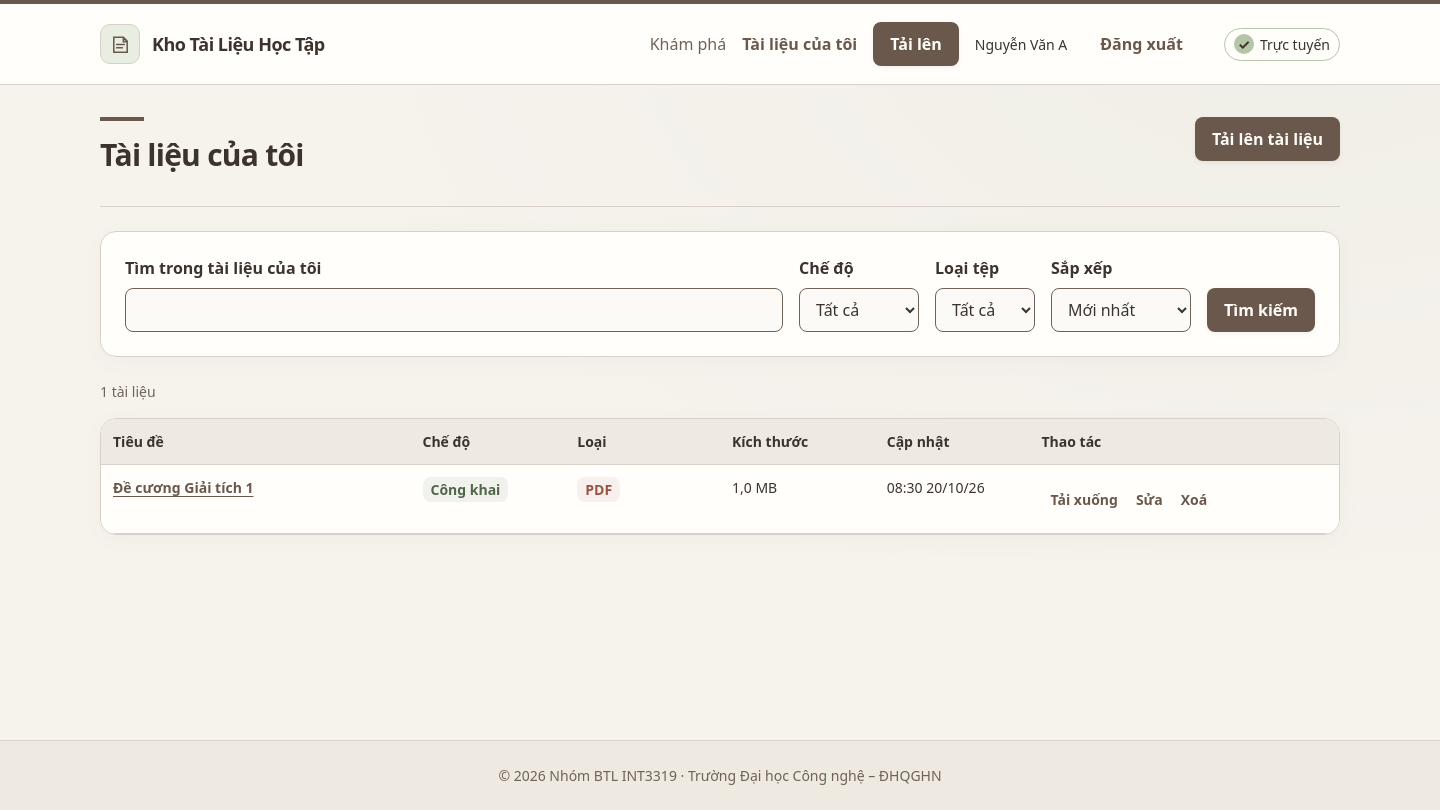
authentication, navigation and public discovery › blocks an external redirect, sends logged-in guests-only routes to their collection, and supports logout
Expected: the heading "Tài liệu của tôi" is shown, [100,117,304,174]
Click the button "Đăng xuất".
click(1142, 44)  # box [1083,22,1200,66]
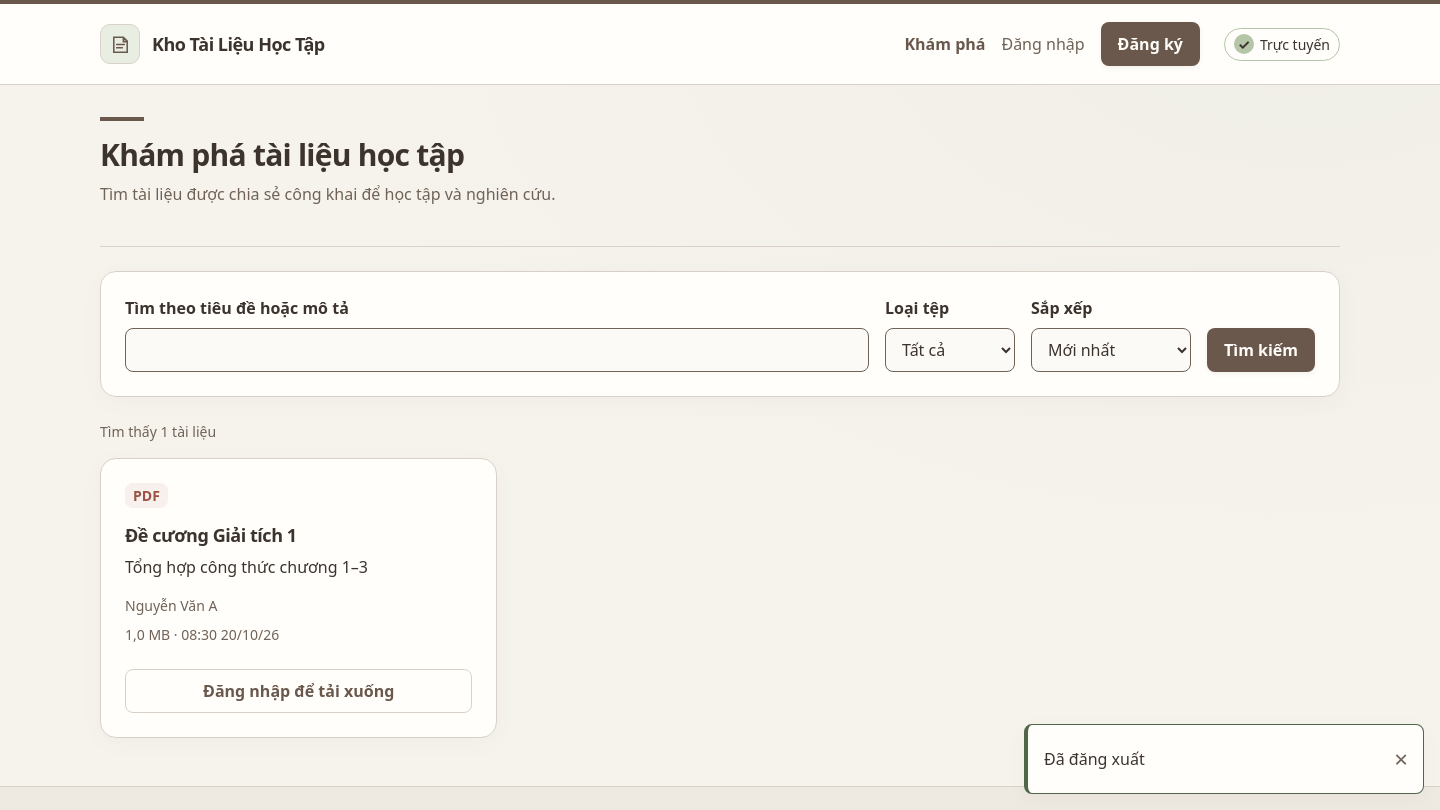
Expected: the heading "Khám phá tài liệu học tập" is shown, [100,134,464,175]
